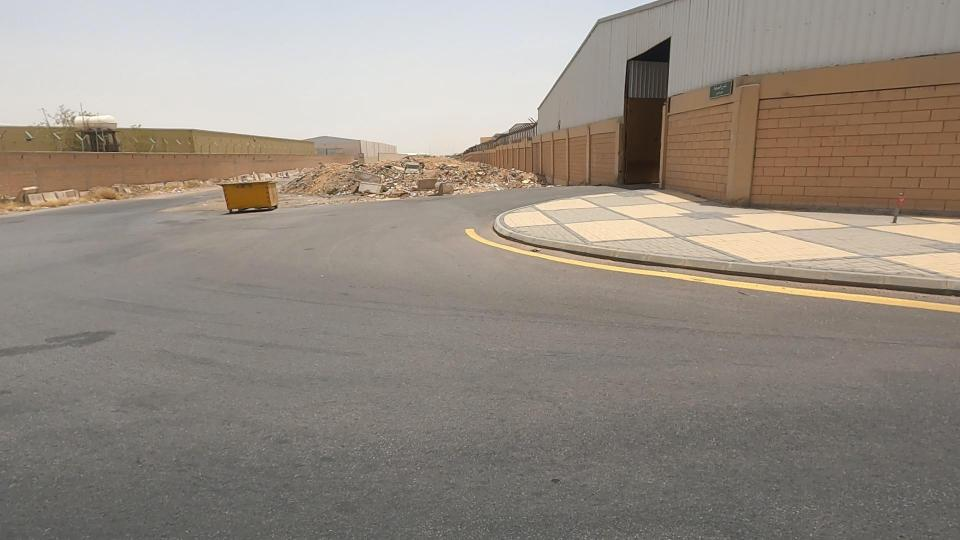GARBAGE: (375, 135, 480, 217), (300, 145, 415, 216), (480, 151, 581, 211)
